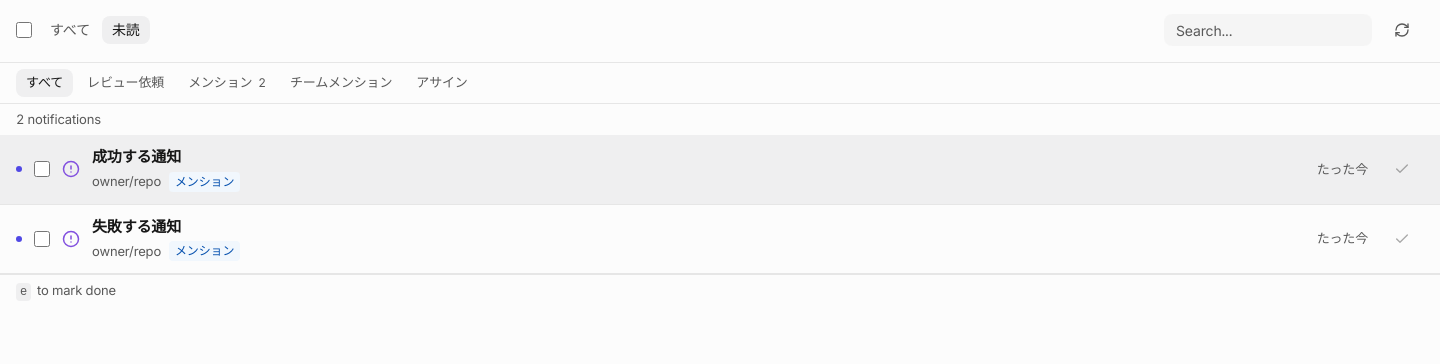
Test: InboxList › 選択既読化の一部失敗を表示し、失敗した項目だけ選択に残す
Click the checkbox named "成功する通知 を選択" at (42, 169), box [34, 161, 50, 177]
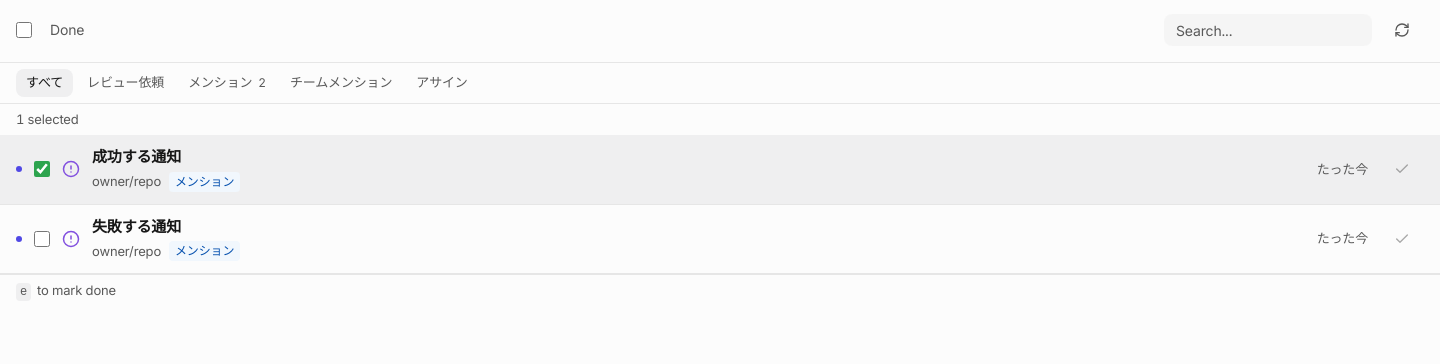
Click the checkbox named "失敗する通知 を選択" at (42, 239), box [34, 231, 50, 247]
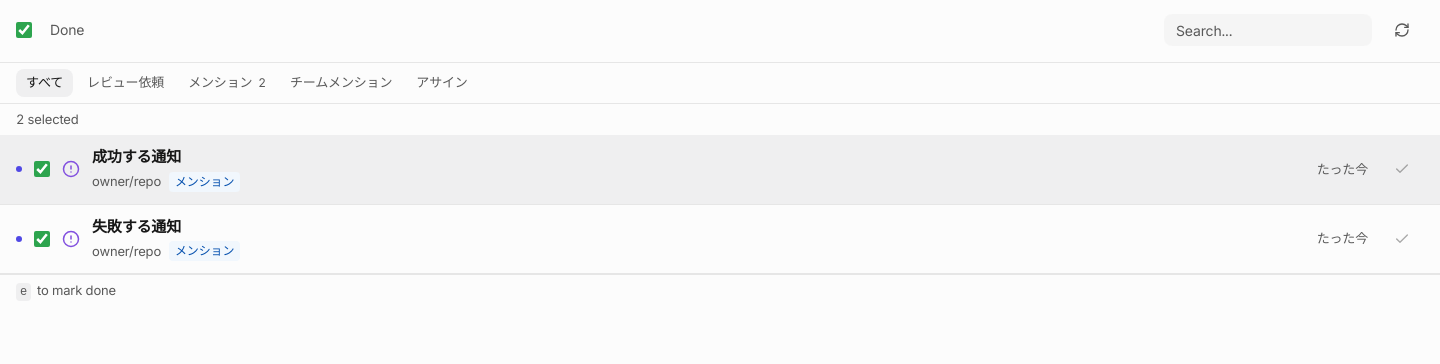
Click the button "Done" at (67, 30), box [40, 16, 94, 44]
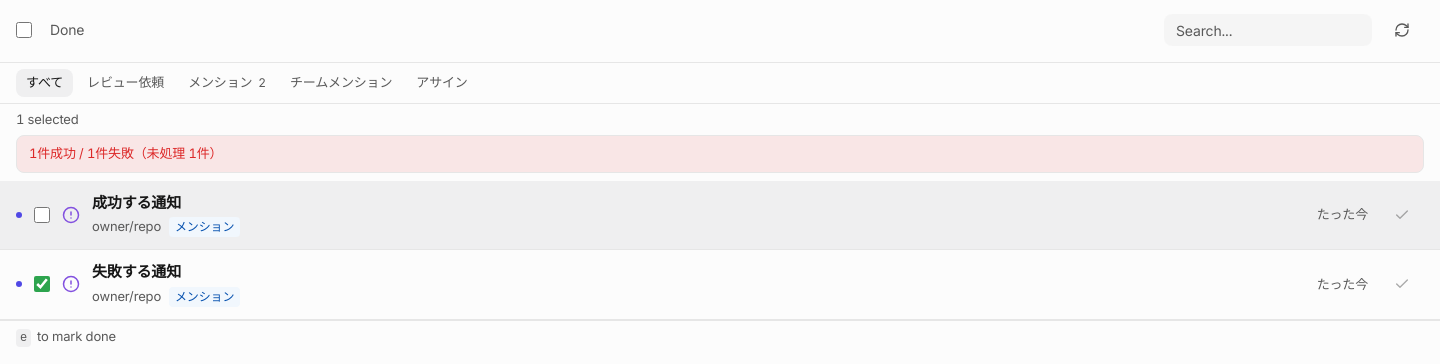
Result: the checkbox named "成功する通知 を選択" is not checked at [34, 207, 50, 223]
Result: the checkbox named "失敗する通知 を選択" is checked at [34, 276, 50, 292]
Result: the message reads "1件成功 / 1件失敗（未処理 1件）" at [29, 145, 222, 161]
